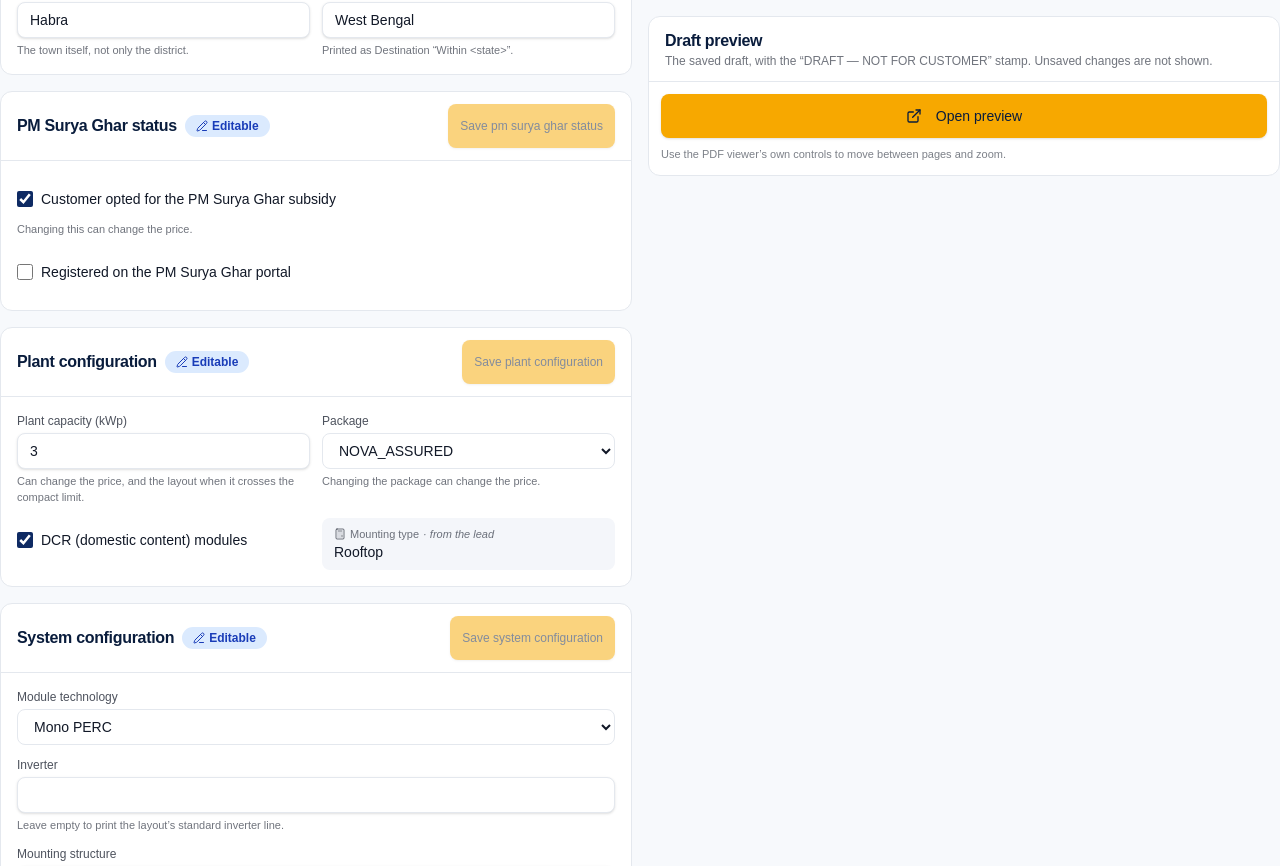
Test: saving one section at a time › explains regenerated sections, the price move and the sign-off flip after a capacity change
(page scrolled)
Replace the text in the field labelled "Plant capacity (kWp)" with "12" at coordinates (164, 450), box [17, 432, 310, 468]
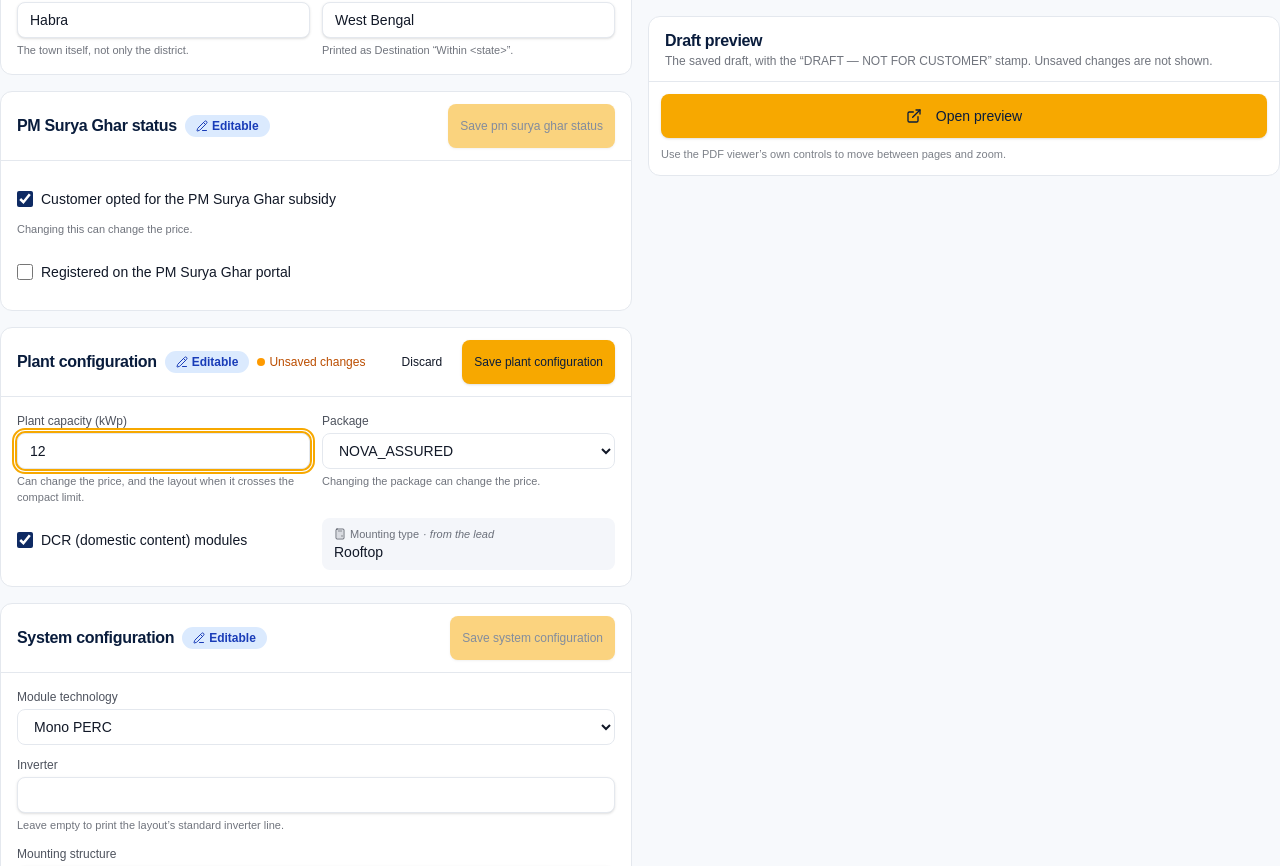
Click the button "Save plant configuration" at coordinates (539, 362), box [462, 340, 615, 384]
(page scrolled)
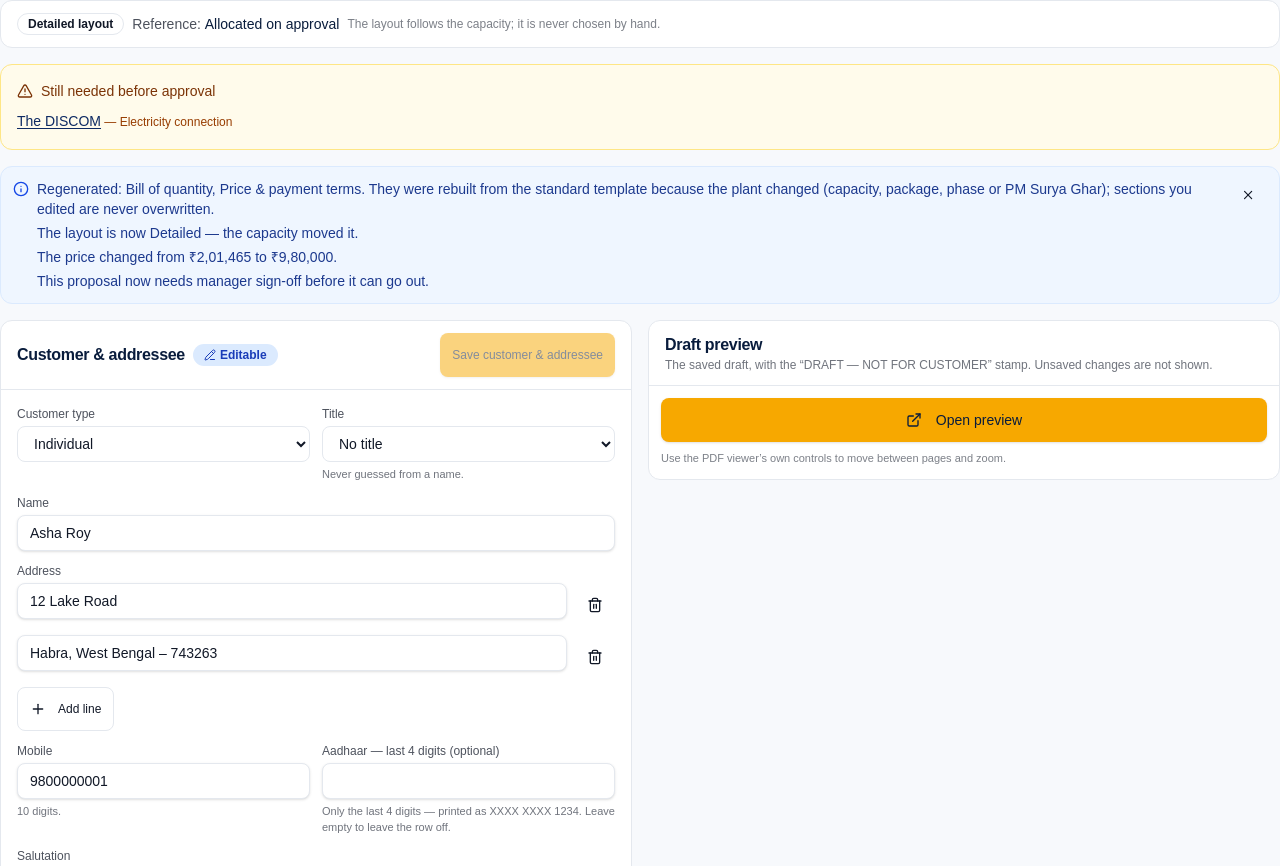
Expected: the message with test id "save-notice" shows "Regenerated: Bill of quantity, Price & payment terms", [37, 181, 1192, 217]
Expected: the message with test id "save-notice" shows "because the plant changed", [37, 181, 1192, 217]
Expected: the message with test id "save-notice" shows "layout is now Detailed", [37, 225, 358, 241]
